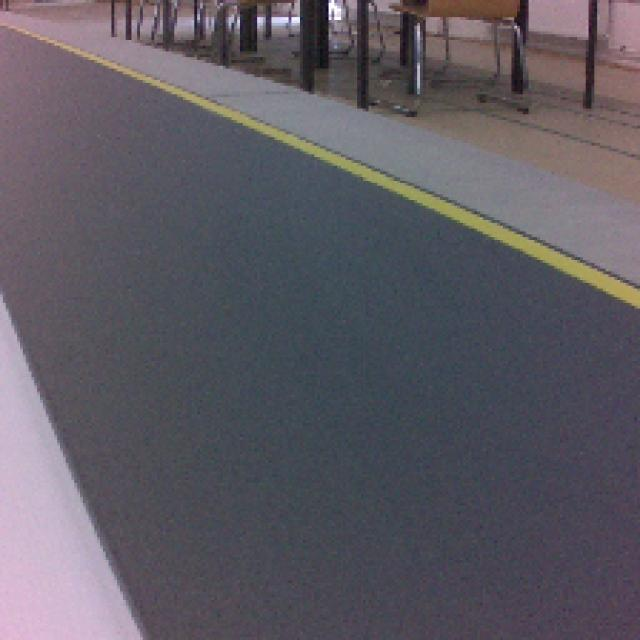Guard rail: (0, 290, 147, 638)
